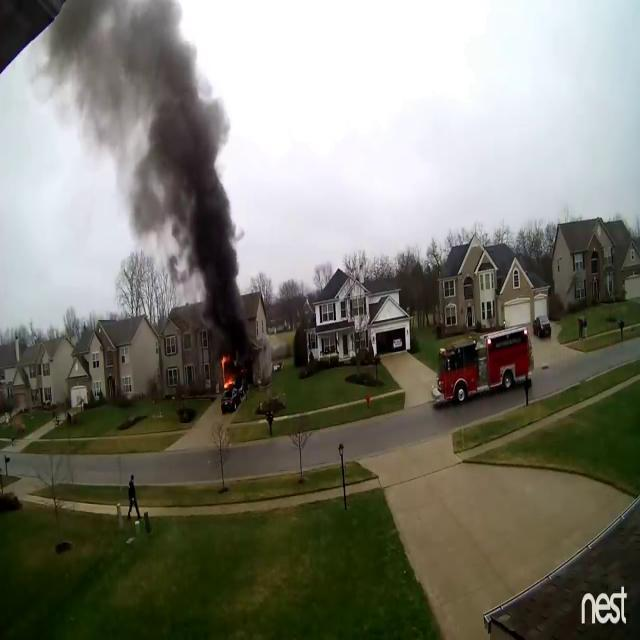Fire: (218, 353, 236, 396)
Smoke: (82, 0, 250, 340)
